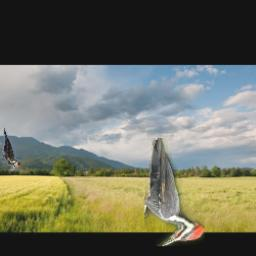Woodpecker: (145, 138, 206, 246), (2, 126, 20, 172)
